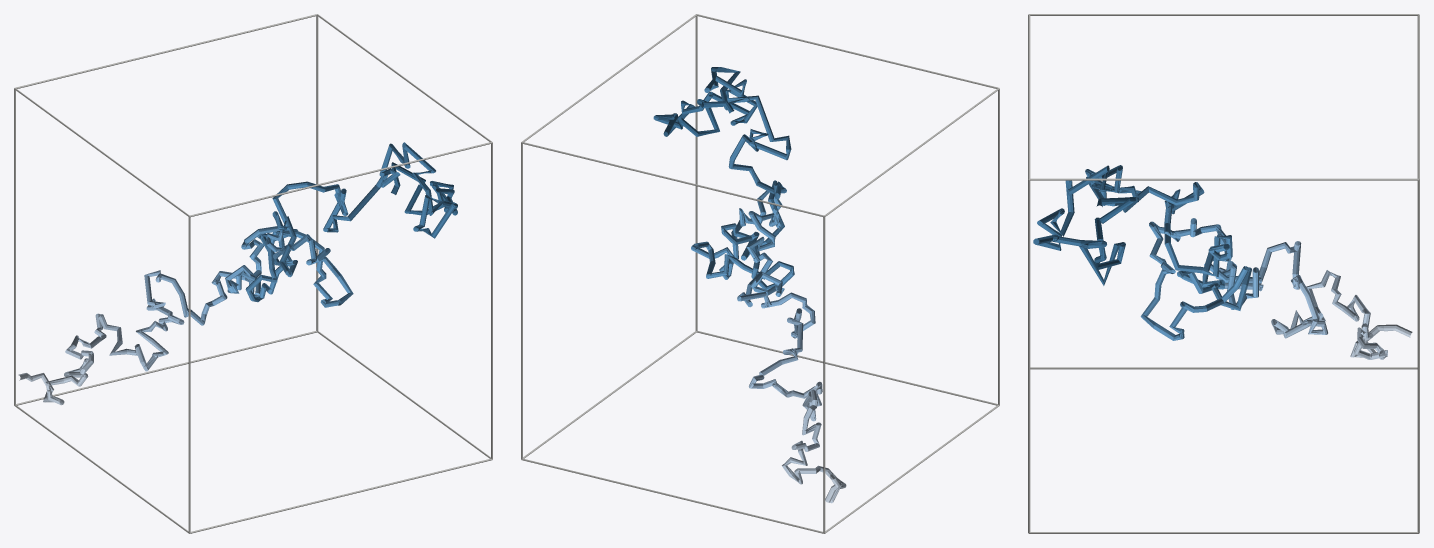
Rendered from BR20_calm.glb.
The picture shows the model from 3 angles, left to right: view 1: azimuth 30°, elevation 25°; view 2: azimuth 150°, elevation 25°; view 3: azimuth 270°, elevation 25°; orthographic projection. The views are drawn at different scales.
Parts seen in each view (by area): view 1: geometry_0, geometry_1; view 2: geometry_0, geometry_1; view 3: geometry_0, geometry_1.
Boxes of the visible parts, x1,y1,x2,y2 form: geometry_0: (18, 142, 457, 405); geometry_1: (14, 14, 492, 533); geometry_0: (653, 67, 846, 503); geometry_1: (521, 14, 999, 533); geometry_0: (1033, 165, 1412, 359); geometry_1: (1028, 14, 1419, 533).
Size of the model in its own units: 0.305 by 0.3014 by 0.3016.
